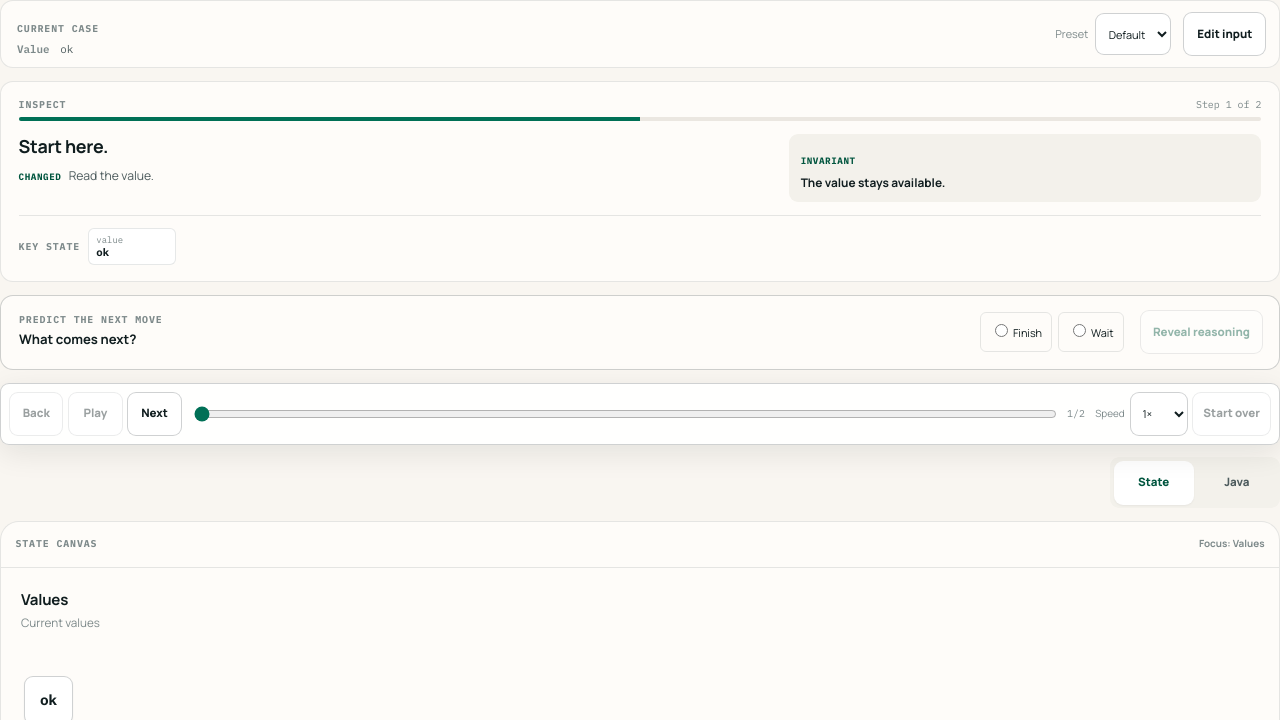
it: TraceWorkspace › offers a preset recovery after an unexpected tracer failure
The width and height of the screenshot is (1280, 720).
Click the button "Edit input" at (1225, 34), box [1183,12,1266,56]
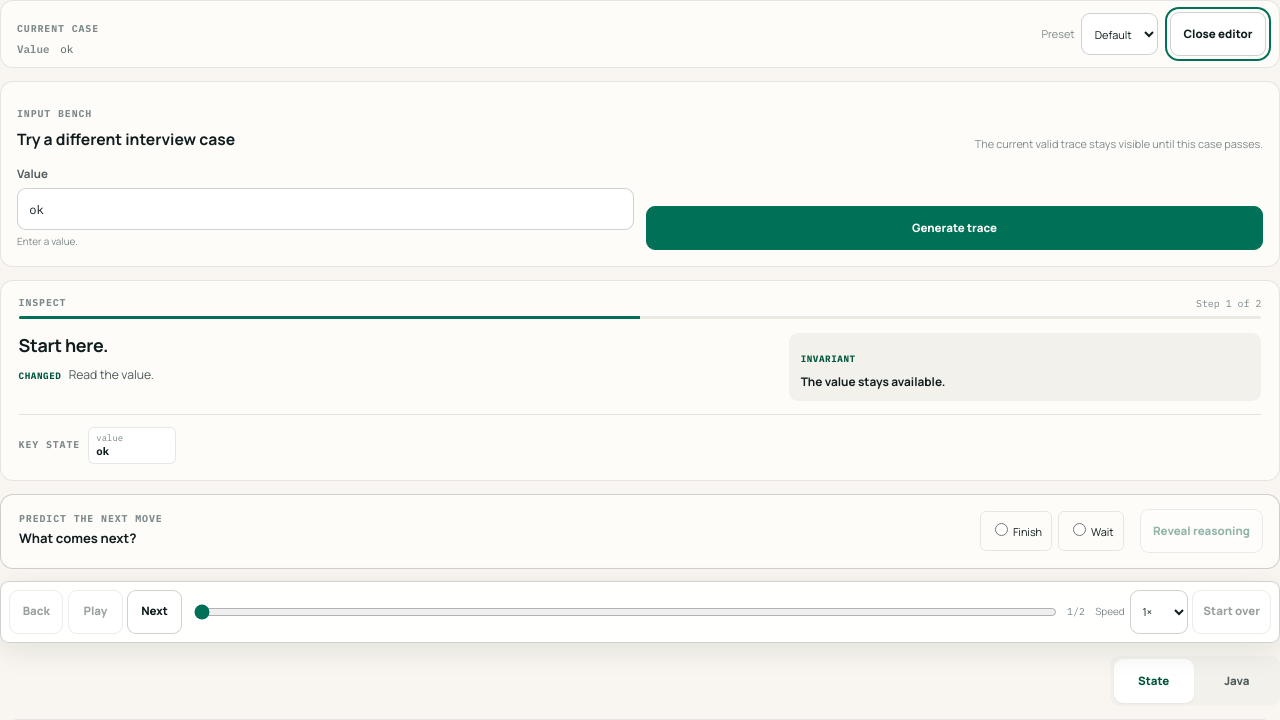
Type "crash" into the field labelled "Value" at (326, 209), box [17,188,634,230]
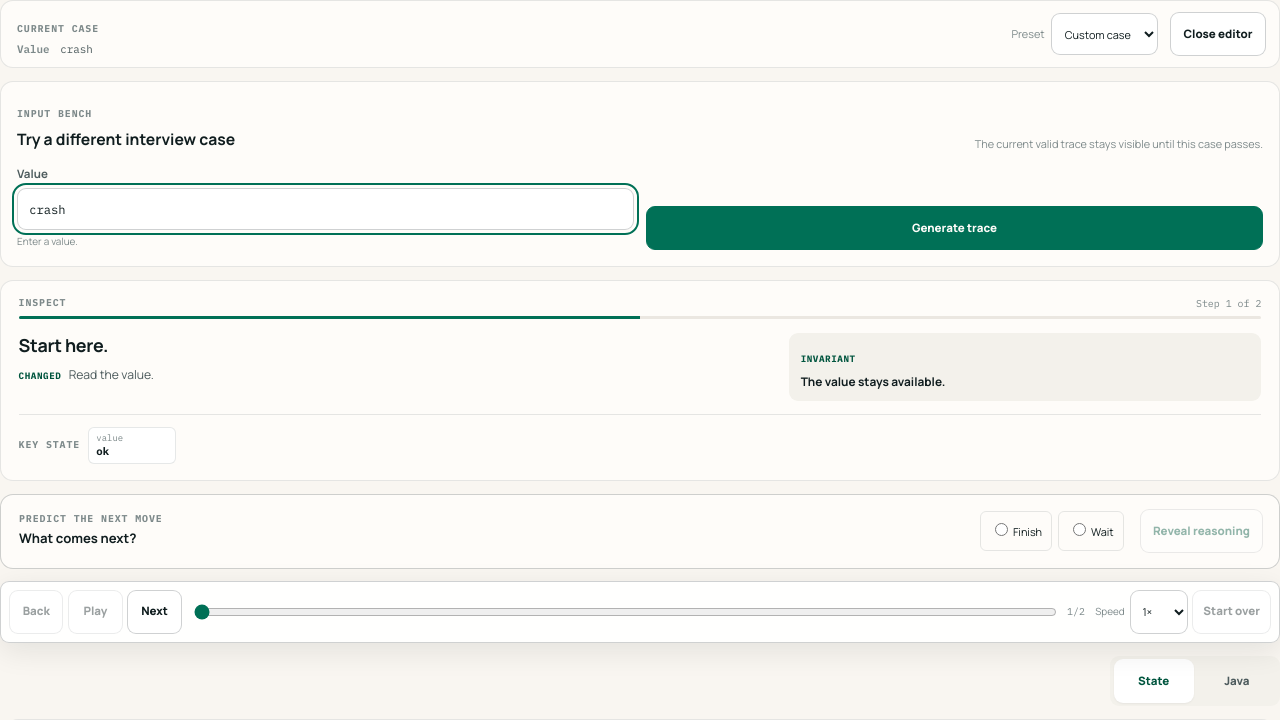
Click the button "Generate trace" at (954, 228), box [646,206,1263,250]
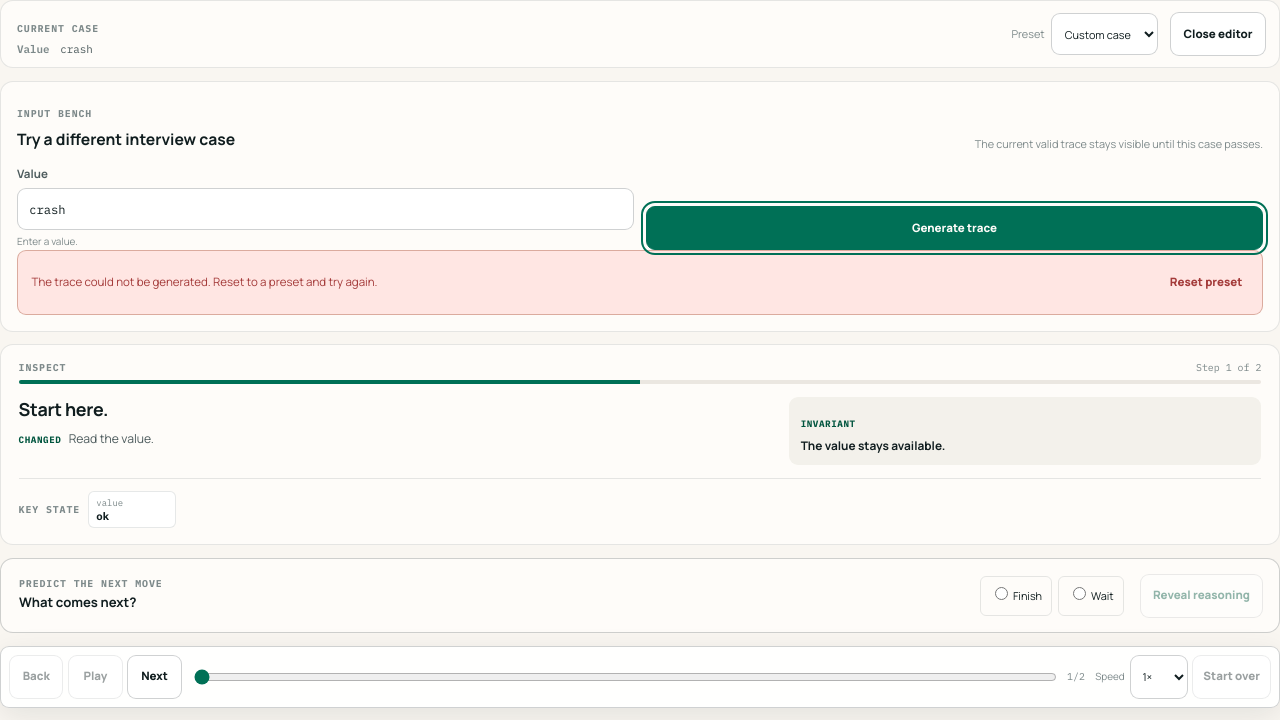
Result: the message shows "could not be generated" at [32,274,378,289]
Click the button "Reset preset" at (1206, 282), box [1164,262,1248,302]
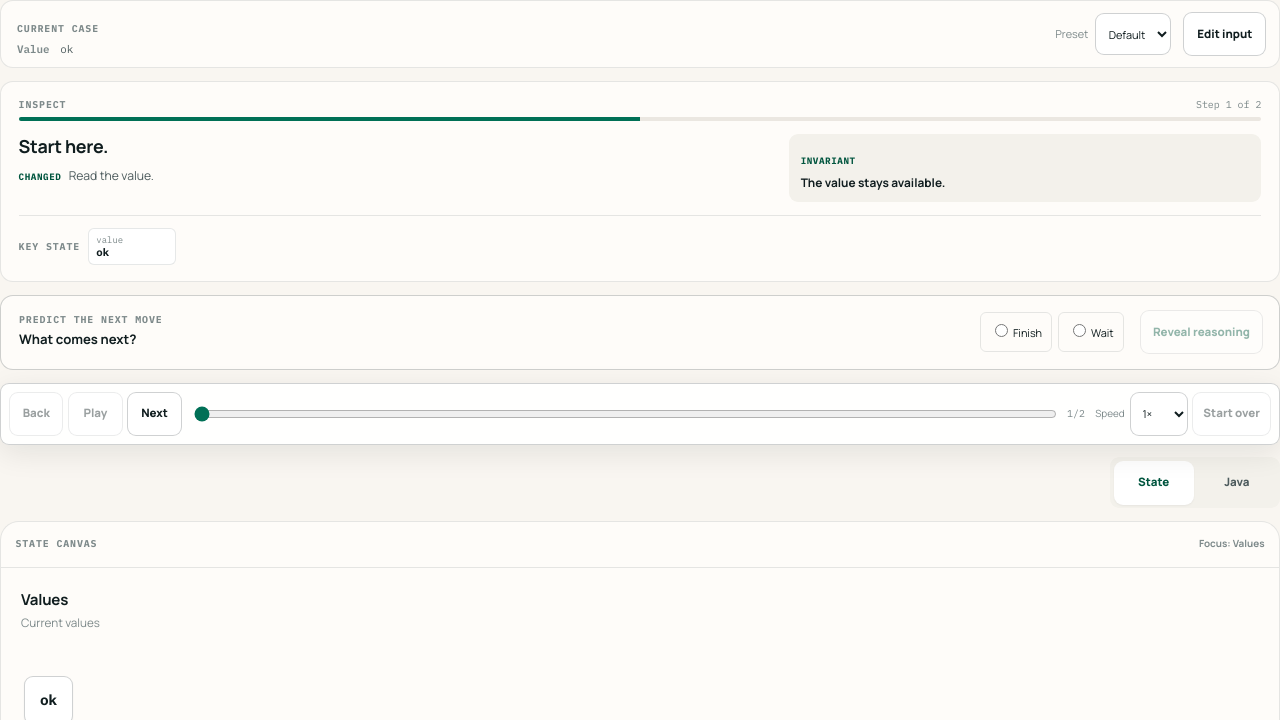
Result: the text "could not be generated" is gone
